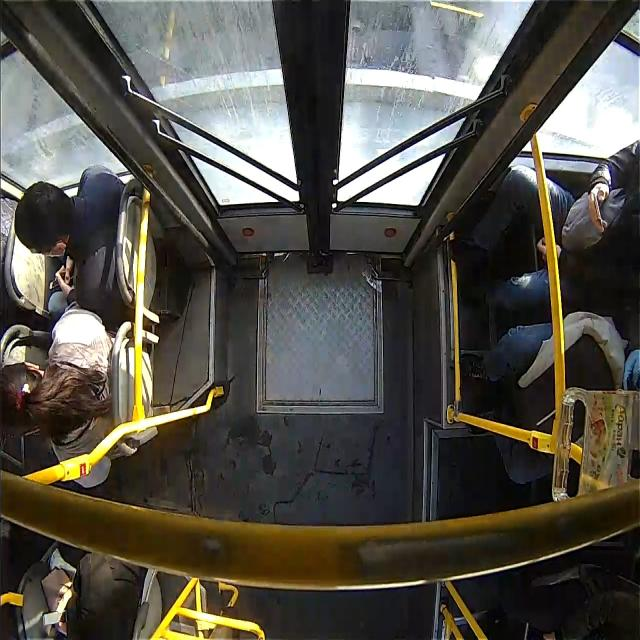bus-door: (1, 0, 639, 268)
